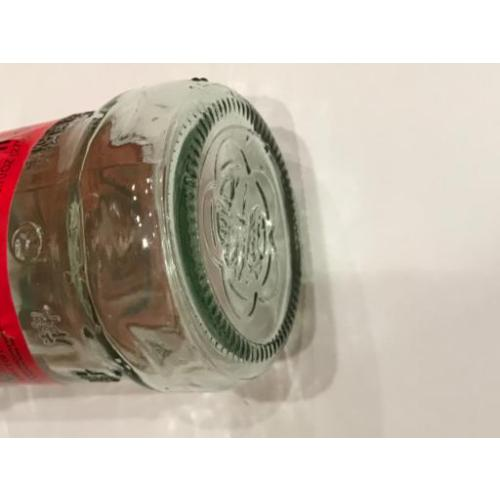glass: (0, 78, 301, 391)
